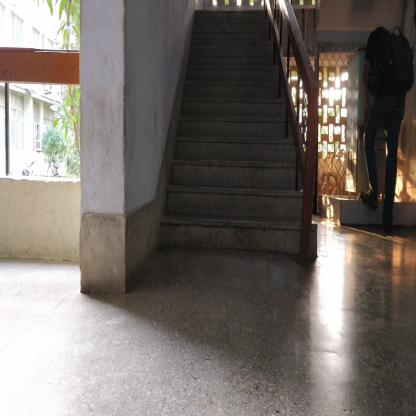stairs: (200, 15, 266, 260)
